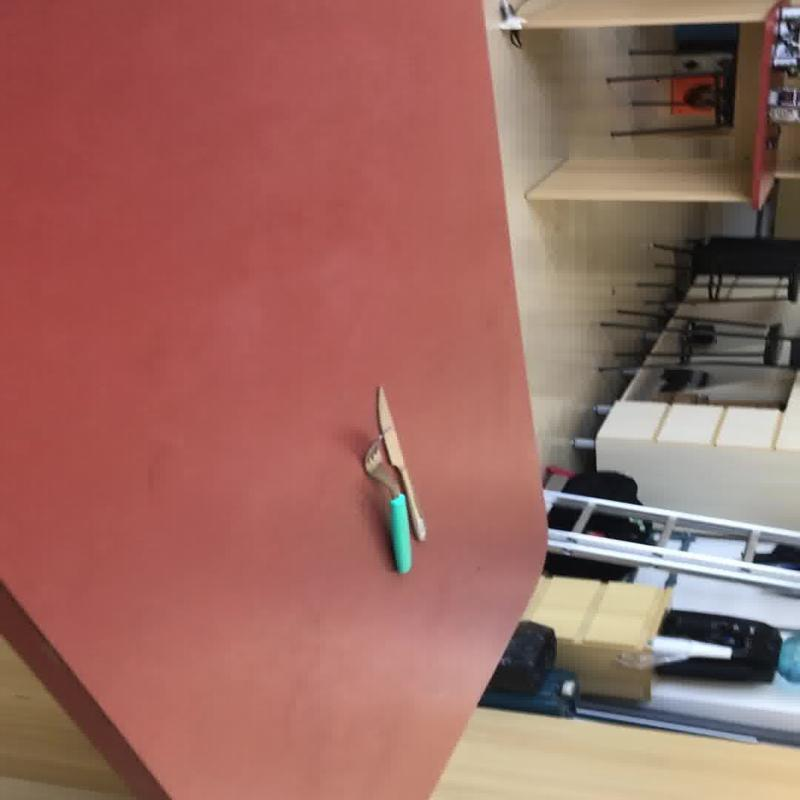knife: (360, 384, 428, 573), (372, 384, 427, 542)
